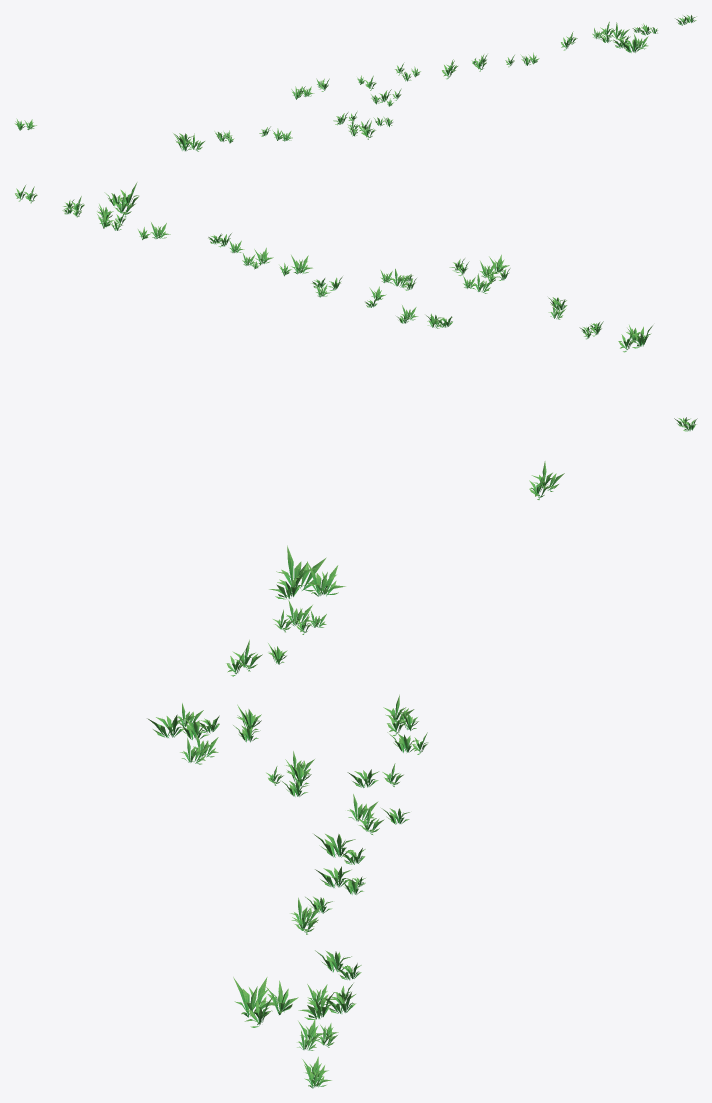
File: area_03_10.fbx
3 views of the same model, one above another, from view 1: azimuth 30°, elevation 25°; view 2: azimuth 150°, elevation 25°; view 3: azimuth 270°, elevation 25° (orthographic). The views are drawn at different scales.
Parts seen in each view (by area): view 1: area_03_10; view 2: area_03_10; view 3: area_03_10.
Part boxes in pixels (x1,y1,x2,y2): area_03_10: (14, 15, 696, 151); area_03_10: (15, 182, 697, 431); area_03_10: (147, 461, 564, 1088).
Bounding box in the file's own units: 56.71 × 1.64 × 16.49.
